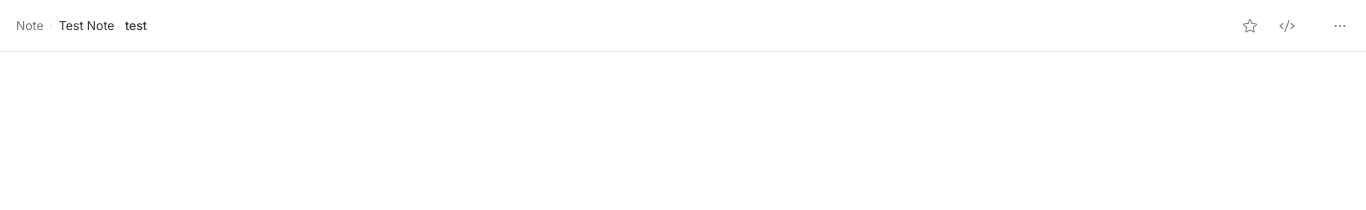
BreadcrumbBar — archive/unarchive › shows archive in the overflow menu for non-archived note
Press the mouse on the button named "More note actions" at (1340, 26), box x1=1329 y1=15 x2=1350 y2=36
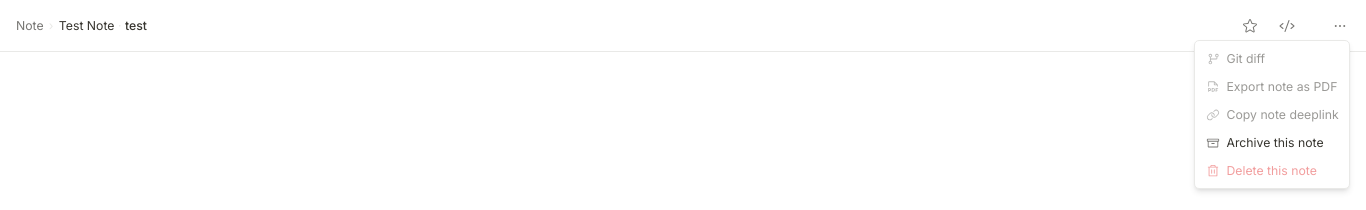
Result: the menu item "Archive this note" is shown at x1=1206 y1=135 x2=1324 y2=150
